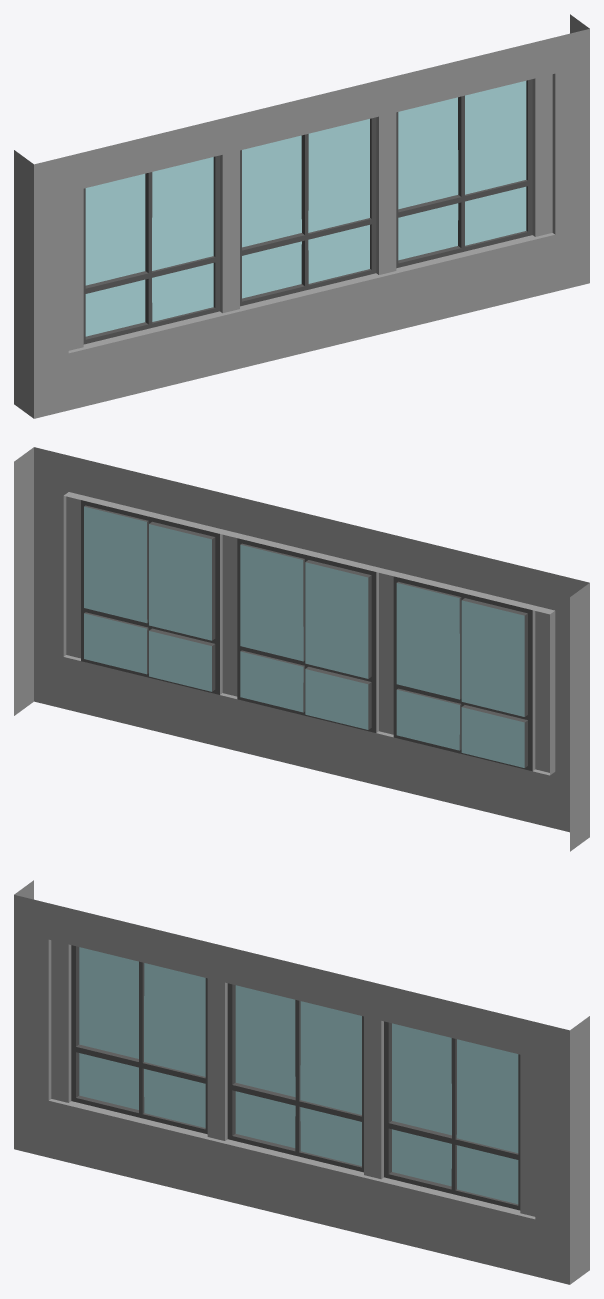
File: TripleCrossWindow.fbx
The picture shows the model from 3 angles, top to bottom: view 1: azimuth 30°, elevation 25°; view 2: azimuth 150°, elevation 25°; view 3: azimuth 330°, elevation 25°; orthographic projection.
Parts seen in each view (by area): view 1: TripleCrossWindow; view 2: TripleCrossWindow; view 3: TripleCrossWindow.
Boxes of the visible parts, x1=… form: TripleCrossWindow: x1=14, y1=14, x2=589, y2=418; TripleCrossWindow: x1=14, y1=447, x2=589, y2=851; TripleCrossWindow: x1=14, y1=880, x2=589, y2=1284.
Size of the model in its own units: 800 by 350 by 50.
